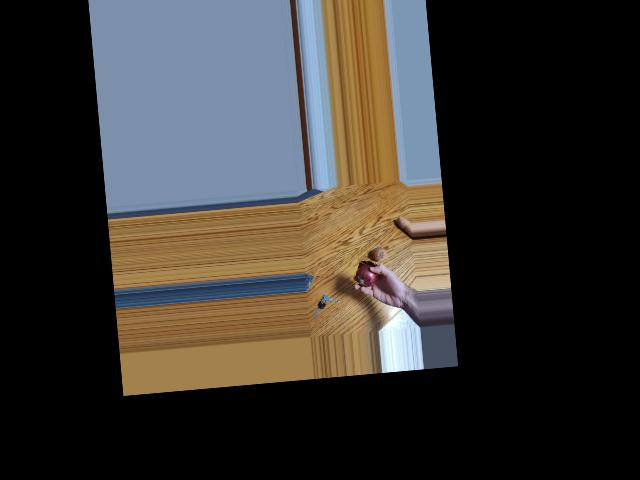onion: (371, 244, 388, 268)
